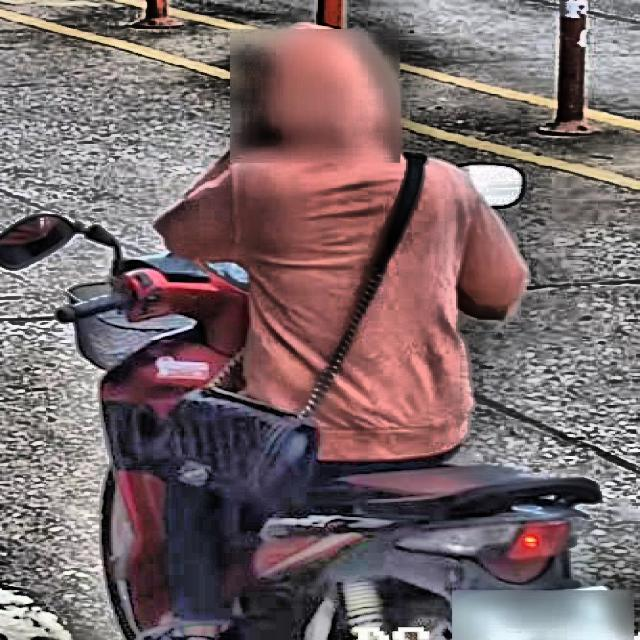motorcycle: (0, 164, 640, 638)
